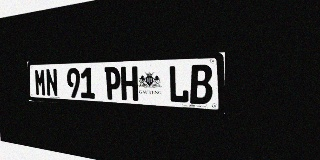1: (80, 67, 95, 99)
9: (67, 68, 81, 98)
B: (190, 64, 212, 105)
H: (121, 66, 138, 101)
L: (168, 65, 189, 103)
M: (34, 69, 46, 96)
N: (45, 68, 58, 97)
P: (104, 67, 121, 100)
